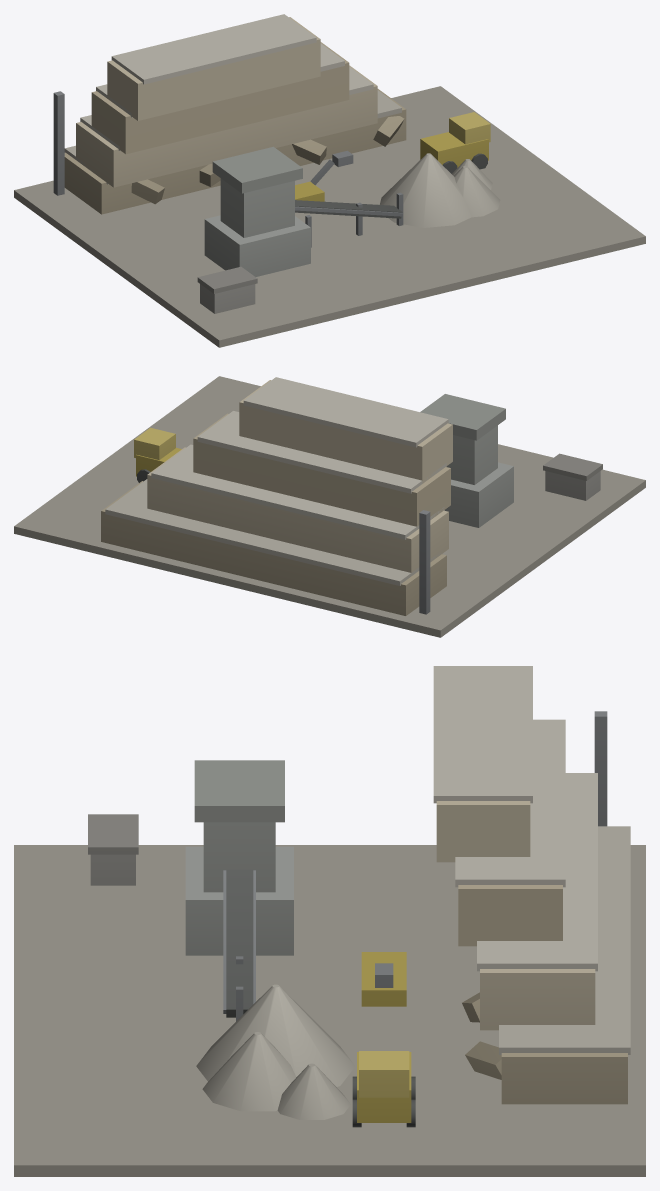
Rendered from m_techb_quarry_279cebdc.glb.
The picture shows the model from 3 angles, top to bottom: view 1: azimuth 30°, elevation 25°; view 2: azimuth 150°, elevation 25°; view 3: azimuth 270°, elevation 25°; orthographic projection. The views are drawn at different scales.
Parts seen in each view (by area): view 1: mesh; view 2: mesh; view 3: mesh.
Part boxes in pixels (x1,y1,x2,y2): mesh: (14, 14, 645, 347); mesh: (14, 376, 645, 637); mesh: (14, 666, 645, 1176).
Bounding box in the file's own units: 84 × 28.85 × 70.
